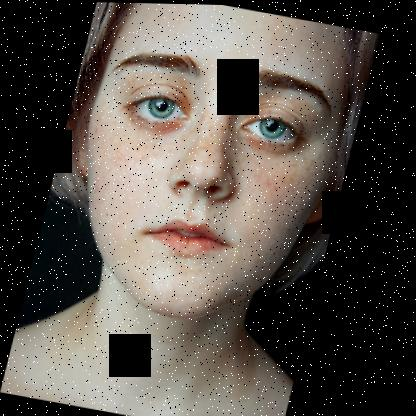Female: (40, 1, 380, 340)
